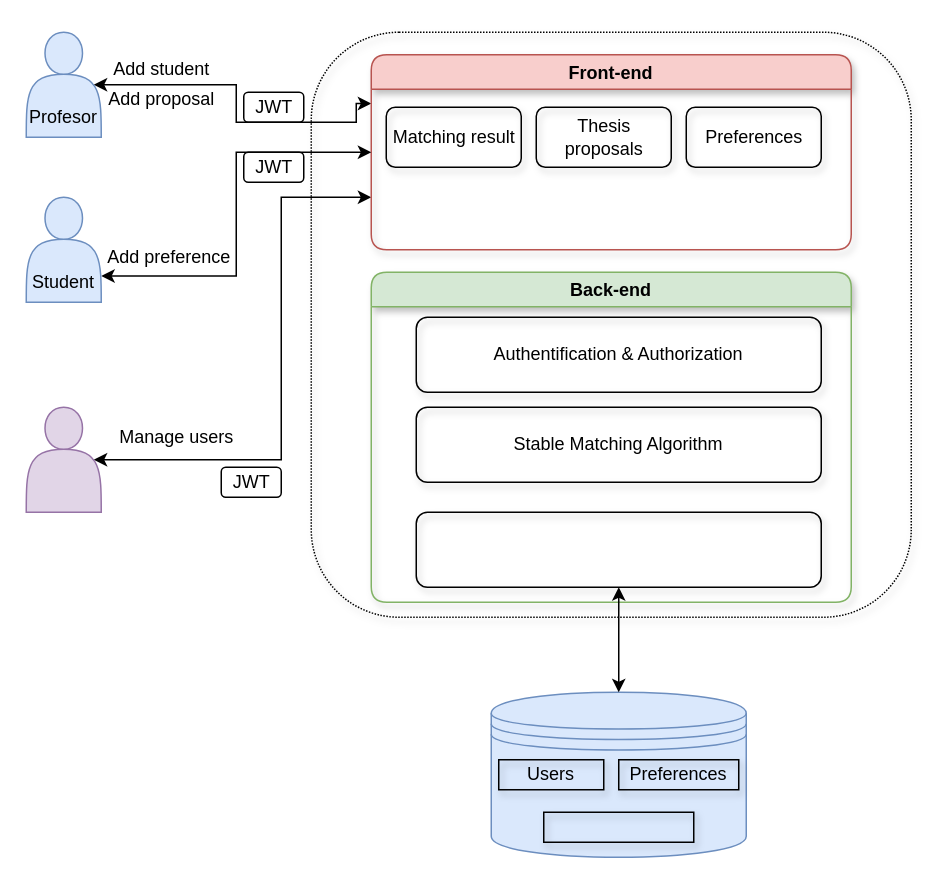
Image size: 947x884. Some labels were removed from this diagram. Here are the shapes that lost their labels. From the top down, the centre of each, then its label:
At (x=63, y=459): "Admin".
At (x=619, y=551): "Data Layer".
At (x=619, y=829): "Proposals".
